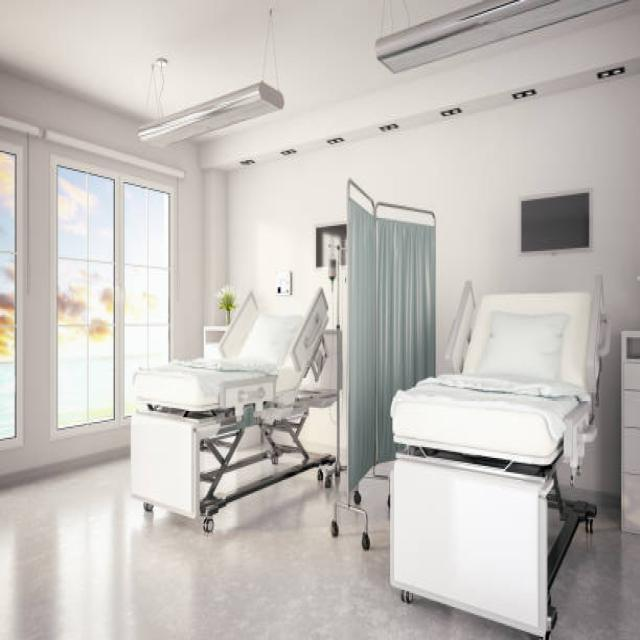bed: (388, 276, 604, 639), (130, 286, 341, 534)
